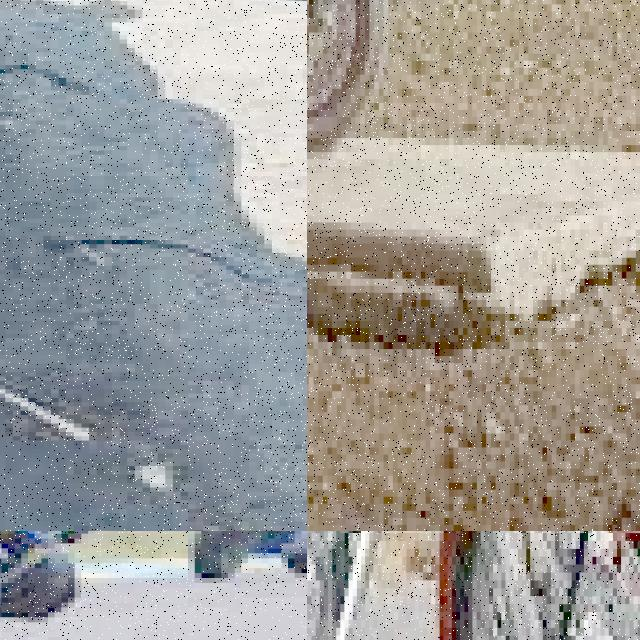bike: (0, 0, 196, 531), (307, 531, 640, 640), (307, 0, 393, 166), (168, 531, 307, 593), (0, 531, 74, 640)
